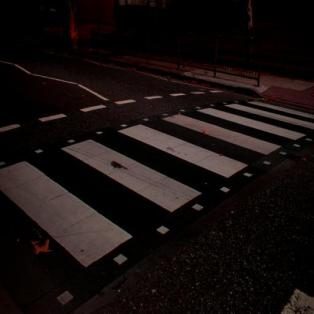Paso de Cebra: (57, 120, 259, 218)
